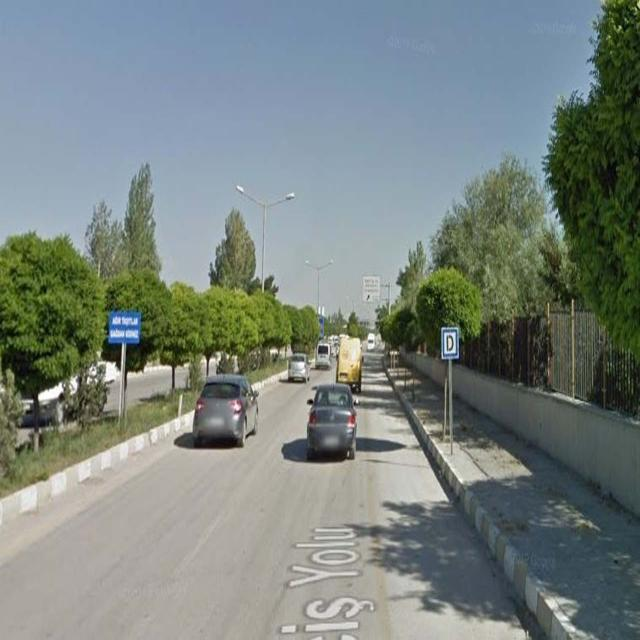durak: (441, 327, 459, 359)
